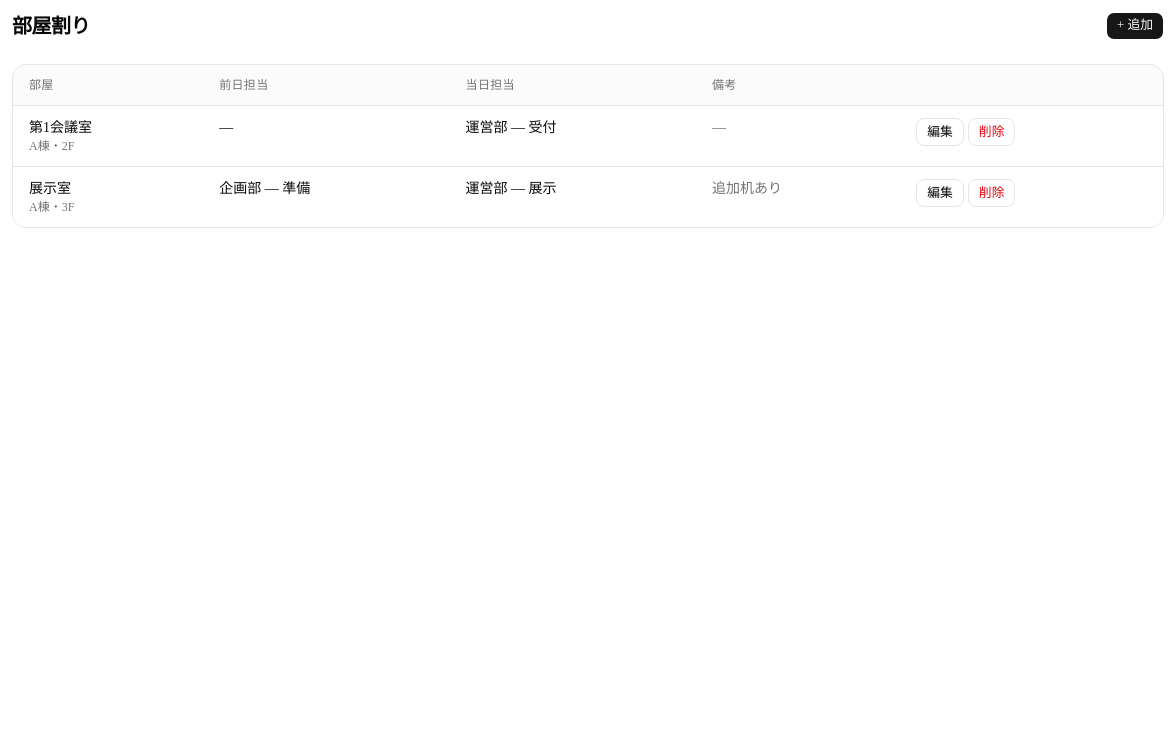
Test: RoomAdminPanel › + 追加 ボタンクリックでフォームを表示する
Click the button "+ 追加" at (1135, 26), box [1106,12,1164,40]
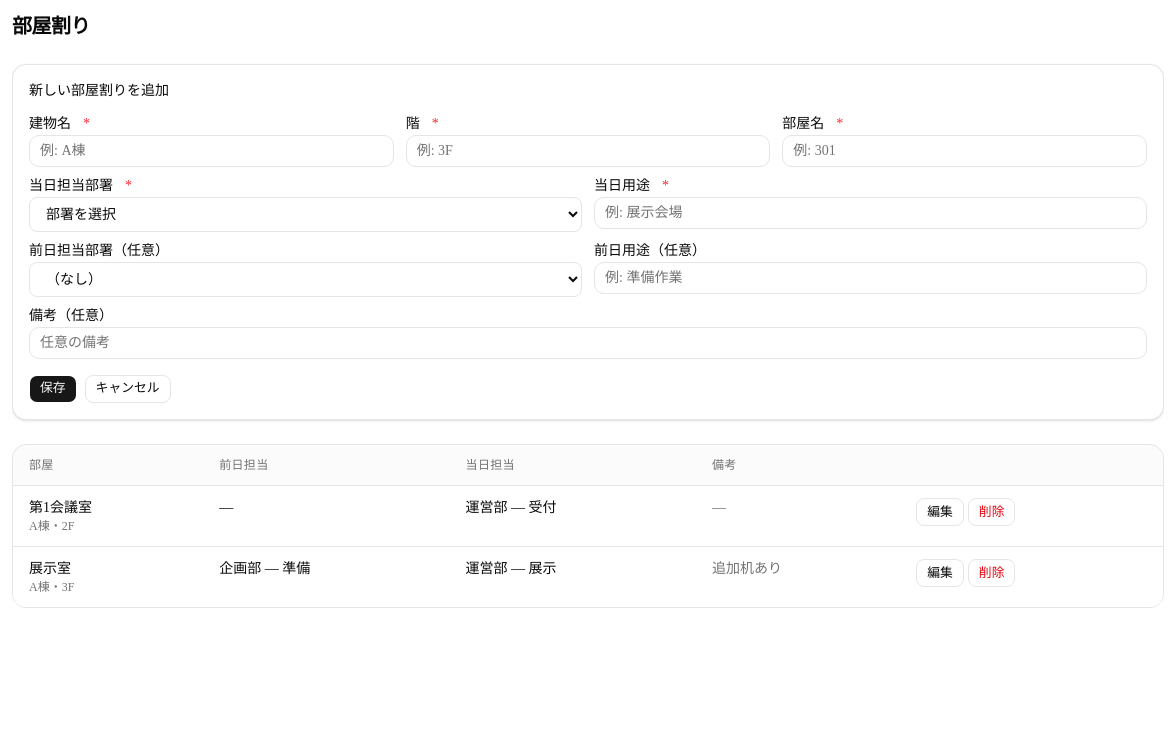
Now the heading "新しい部屋割りを追加" is shown, box [29,83,169,98]
Now the field labelled "建物名 *" is shown, box [29,135,394,167]
